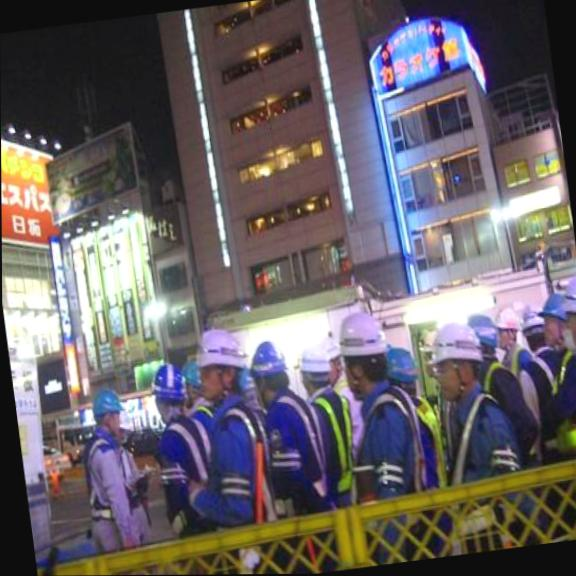safety_vest: (336, 381, 424, 507), (437, 385, 509, 485), (218, 400, 276, 523), (272, 383, 327, 500), (75, 426, 132, 526), (314, 386, 361, 491), (522, 349, 570, 449), (162, 407, 216, 481), (412, 381, 447, 488), (551, 344, 576, 448), (481, 362, 509, 391), (505, 342, 528, 373), (571, 353, 576, 491)
